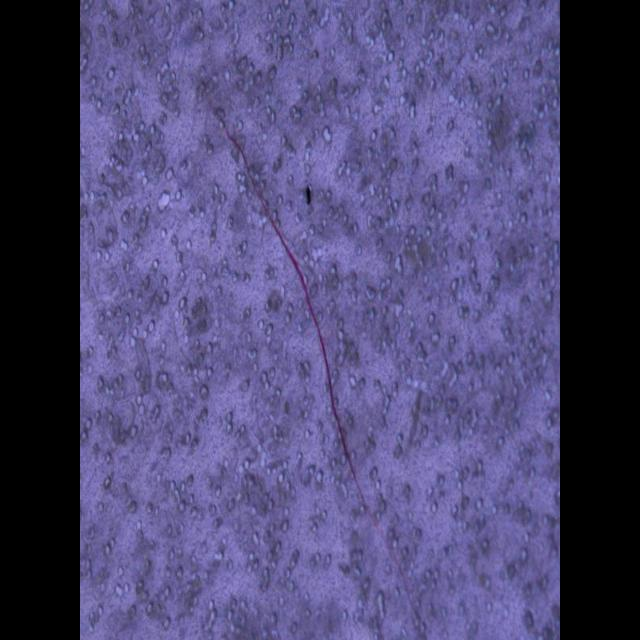Fibre: (206, 92, 407, 578)
